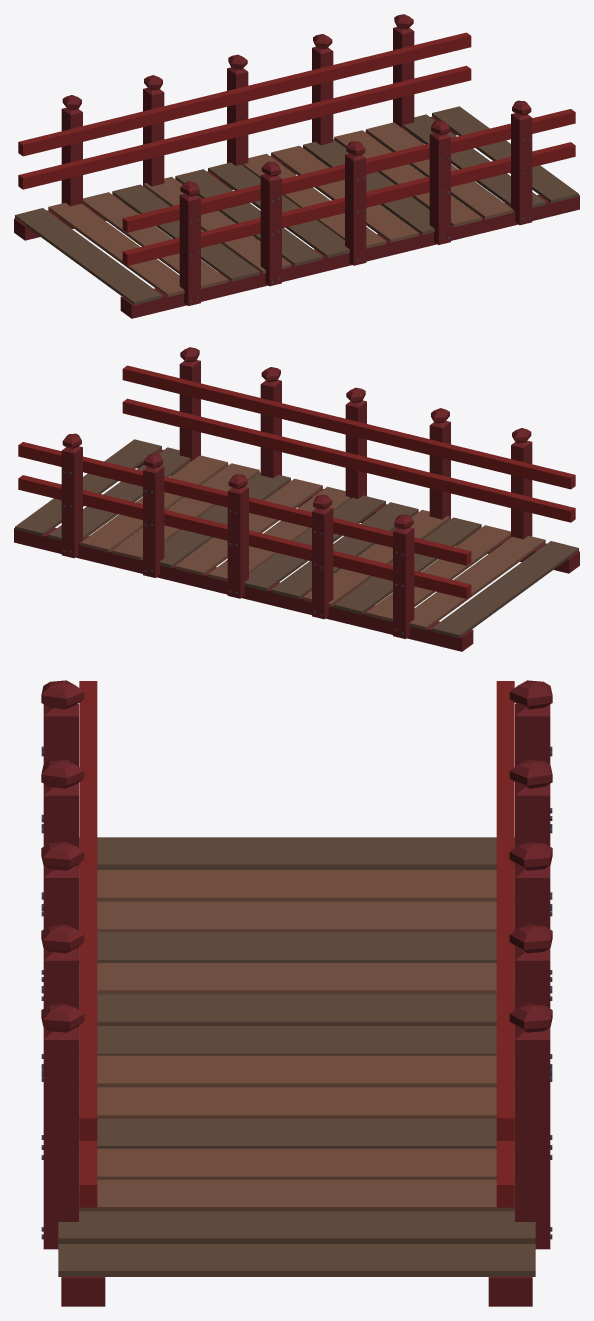
File: Bridge_1_3 Asia.fbx
3 renders of one model, top to bottom at view 1: azimuth 30°, elevation 25°; view 2: azimuth 150°, elevation 25°; view 3: azimuth 270°, elevation 25°, orthographic. The views are drawn at different scales.
Parts seen in each view (by area): view 1: Bridge_1_3; view 2: Bridge_1_3; view 3: Bridge_1_3.
Part boxes in pixels (x1,y1,x2,y2): Bridge_1_3: [14, 14, 579, 318]; Bridge_1_3: [14, 347, 579, 651]; Bridge_1_3: [41, 680, 552, 1306].
Bounding box in the file's own units: 4.1 × 1.06 × 2.02.
